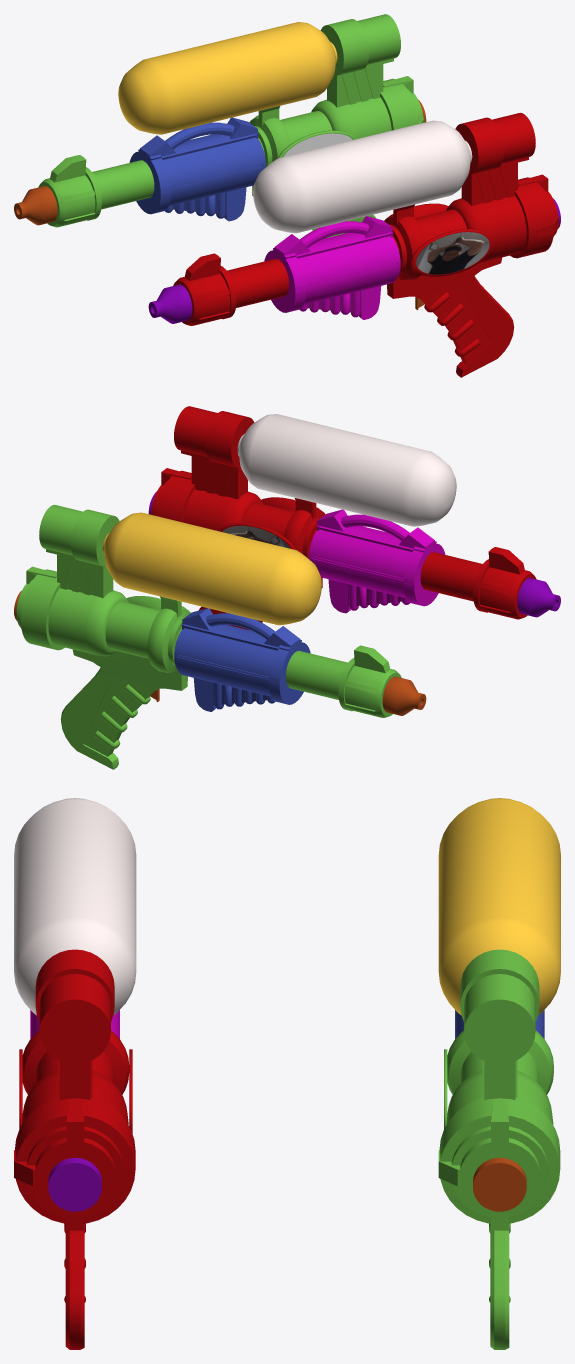
Rendered from waterguns.fbx.
The picture shows the model from 3 angles, top to bottom: view 1: azimuth 30°, elevation 25°; view 2: azimuth 150°, elevation 25°; view 3: azimuth 270°, elevation 25°; orthographic projection. The views are drawn at different scales.
Visible parts, largest first — view 1: Cylinder.003, Cylinder, Cylinder.002, Cylinder.005, Cube.003, Cube.007, Cube.006, Cylinder.001, Cylinder.004, Circle, Cube.005, Cube (+4 smaller); view 2: Cylinder.005, Cylinder, Cylinder.003, Cylinder.002, Cube.007, Cube.003, Cube.002, Cylinder.004, Cylinder.001, Cube, Cube.005, Circle.002 (+3 smaller); view 3: Cylinder, Cylinder.003, Cylinder.005, Cylinder.002, Cylinder.001, Cylinder.004, Cube.006, Cube.002, Cube.005, Cube.
Boxes of the visible parts, x1,y1,x2,y2 form: Cylinder.003: (118,22,337,134); Cylinder: (253,120,472,233); Cylinder.002: (148,174,560,325); Cylinder.005: (14,76,426,227); Cube.003: (264,216,400,319); Cube.007: (129,117,265,221); Cube.006: (387,257,514,377); Cylinder.001: (455,112,535,174); Cylinder.004: (320,14,400,75); Circle: (411,229,493,276); Cube.005: (327,61,383,107); Cube: (461,160,517,206); Cylinder.005: (14,566,426,717); Cylinder: (237,414,456,526); Cylinder.003: (102,512,321,625); Cylinder.002: (148,468,560,619); Cube.007: (174,608,310,711); Cube.003: (309,509,445,613); Cube.002: (60,649,187,769); Cylinder.004: (39,504,119,566); Cylinder.001: (174,406,254,467); Cube: (191,453,247,499); Cube.005: (57,552,113,598); Circle.002: (218,523,295,549); Cylinder: (14,798,136,1015); Cylinder.003: (438,798,560,1015); Cylinder.005: (438,1030,560,1230); Cylinder.002: (14,1030,135,1230); Cylinder.001: (35,949,114,1068); Cylinder.004: (460,949,539,1068); Cube.006: (65,1224,84,1349); Cube.002: (490,1223,509,1349); Cube.005: (482,1060,517,1100); Cube: (57,1060,92,1100).
Bounding box in the file's own units: 392 × 242 × 295.
Materials: 12 (1 with a texture image).
